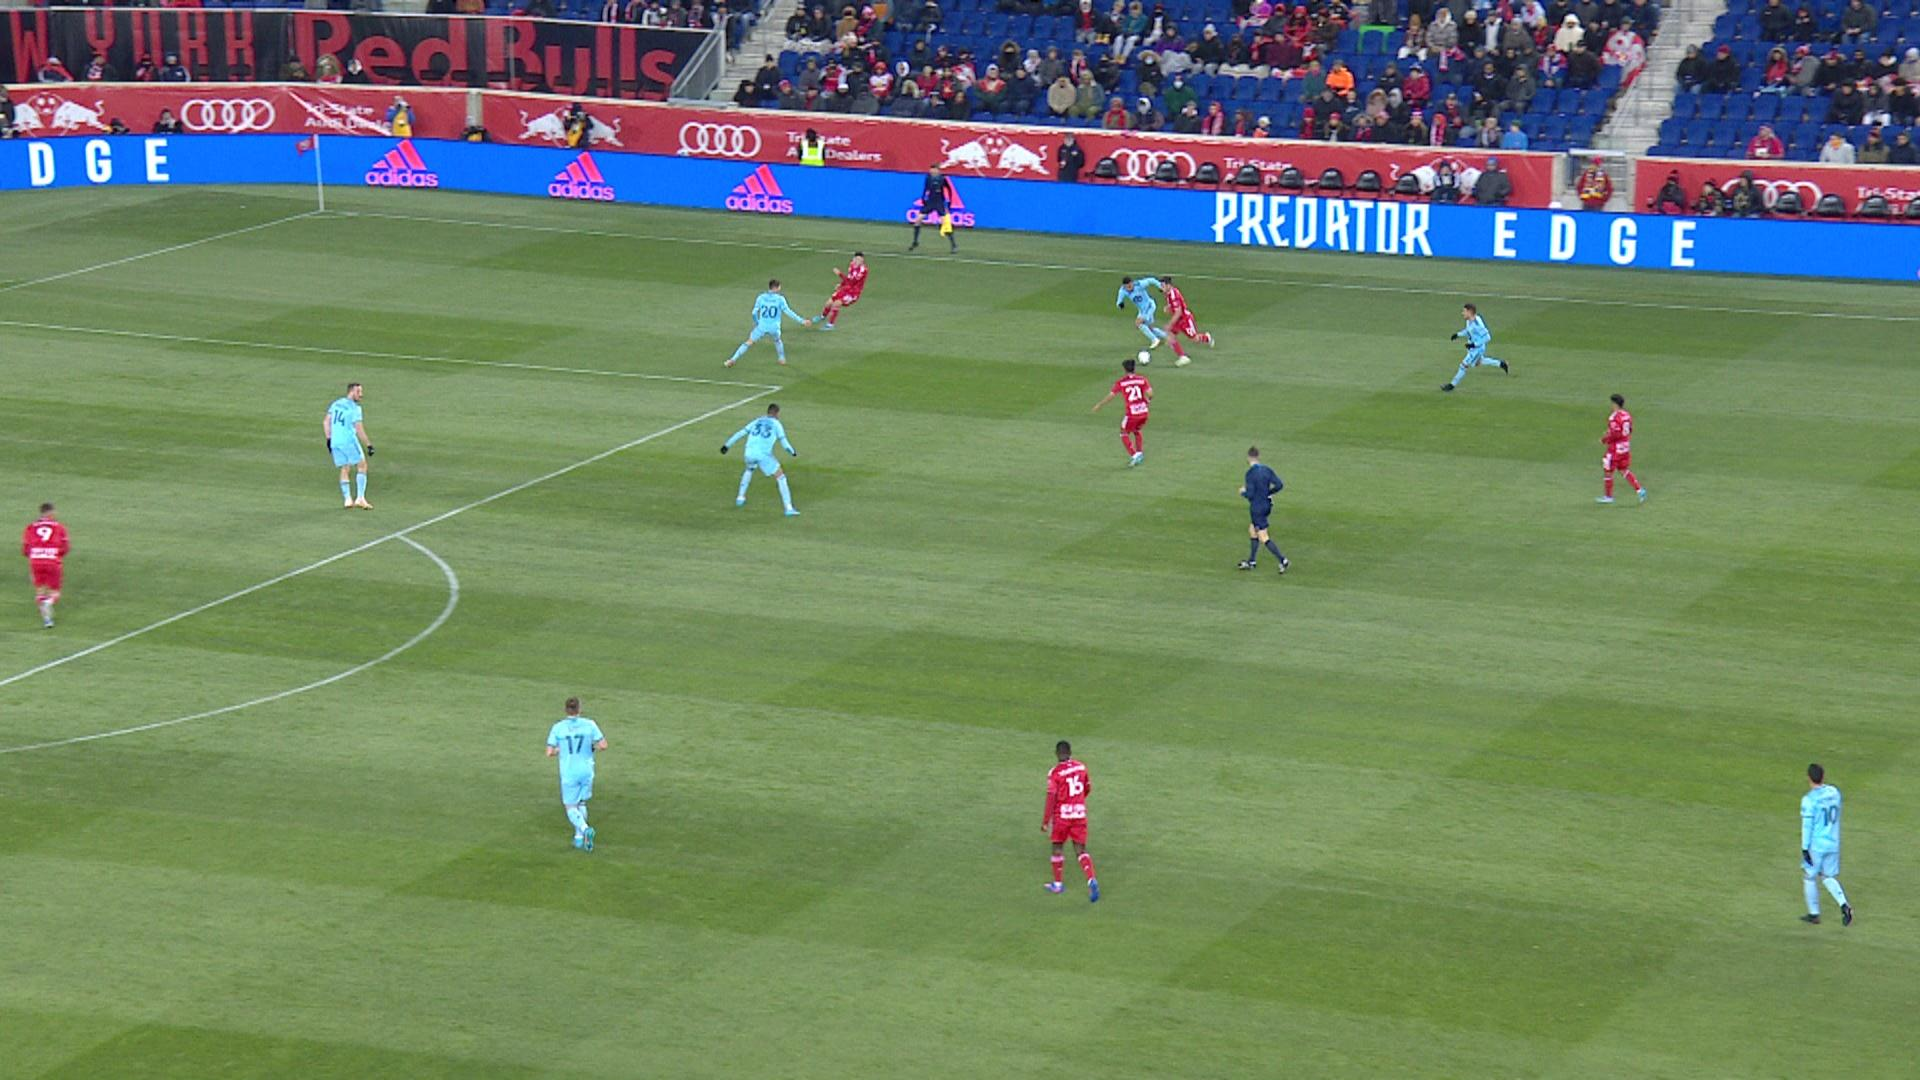football: (1137, 351, 1151, 367)
